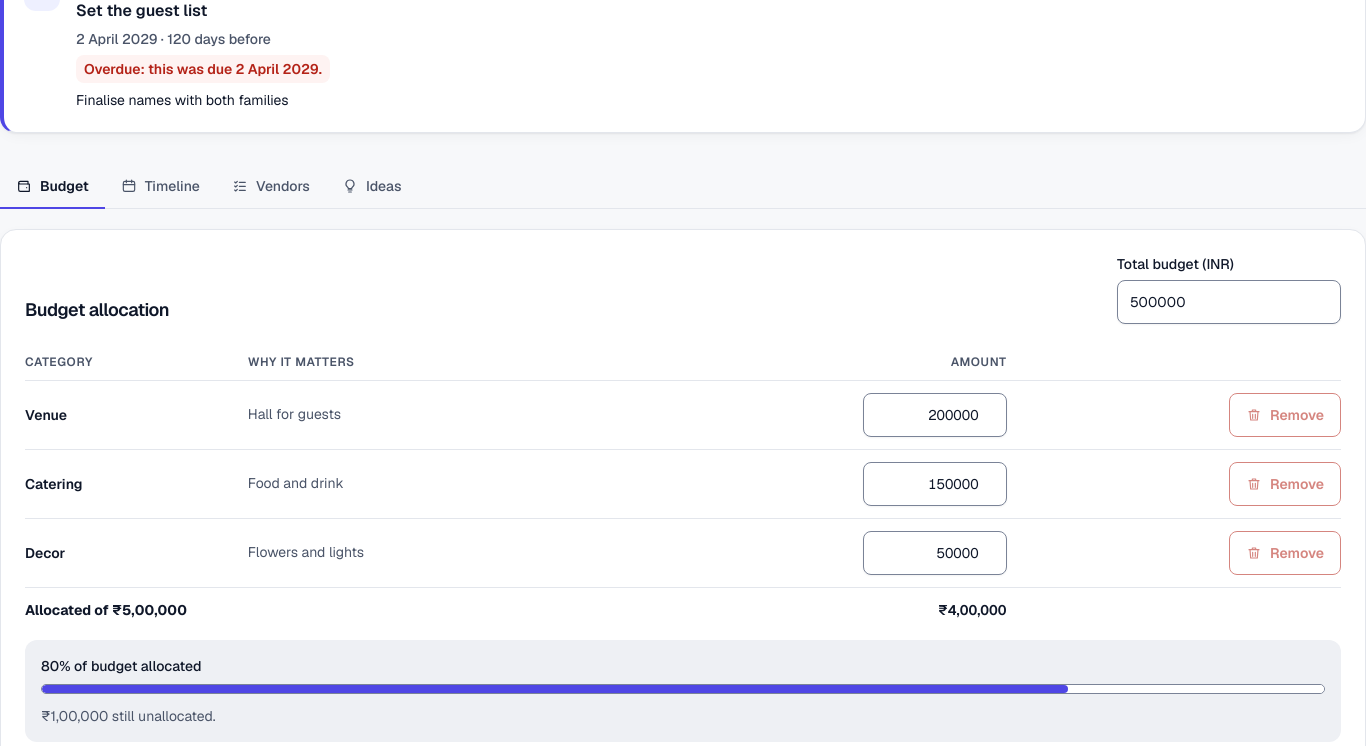
Test: PlanWorkspace › shows the over-budget warning after an edit
This screenshot has width=1366, height=746.
(page scrolled)
Replace the text in the number field named "Venue amount (INR)" with "400000": (935, 415) x1=863 y1=393 x2=1007 y2=437
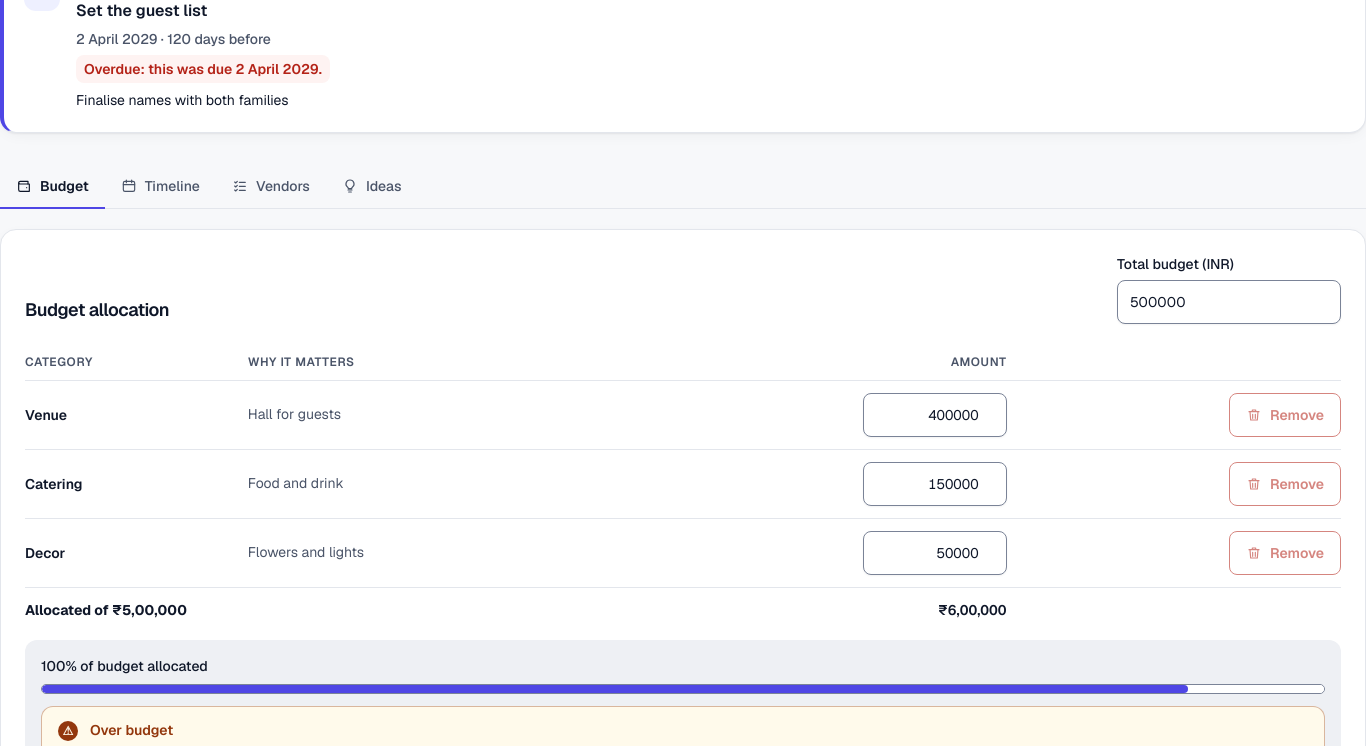
Expected: the text "Over budget" is shown, x1=90 y1=721 x2=173 y2=739
